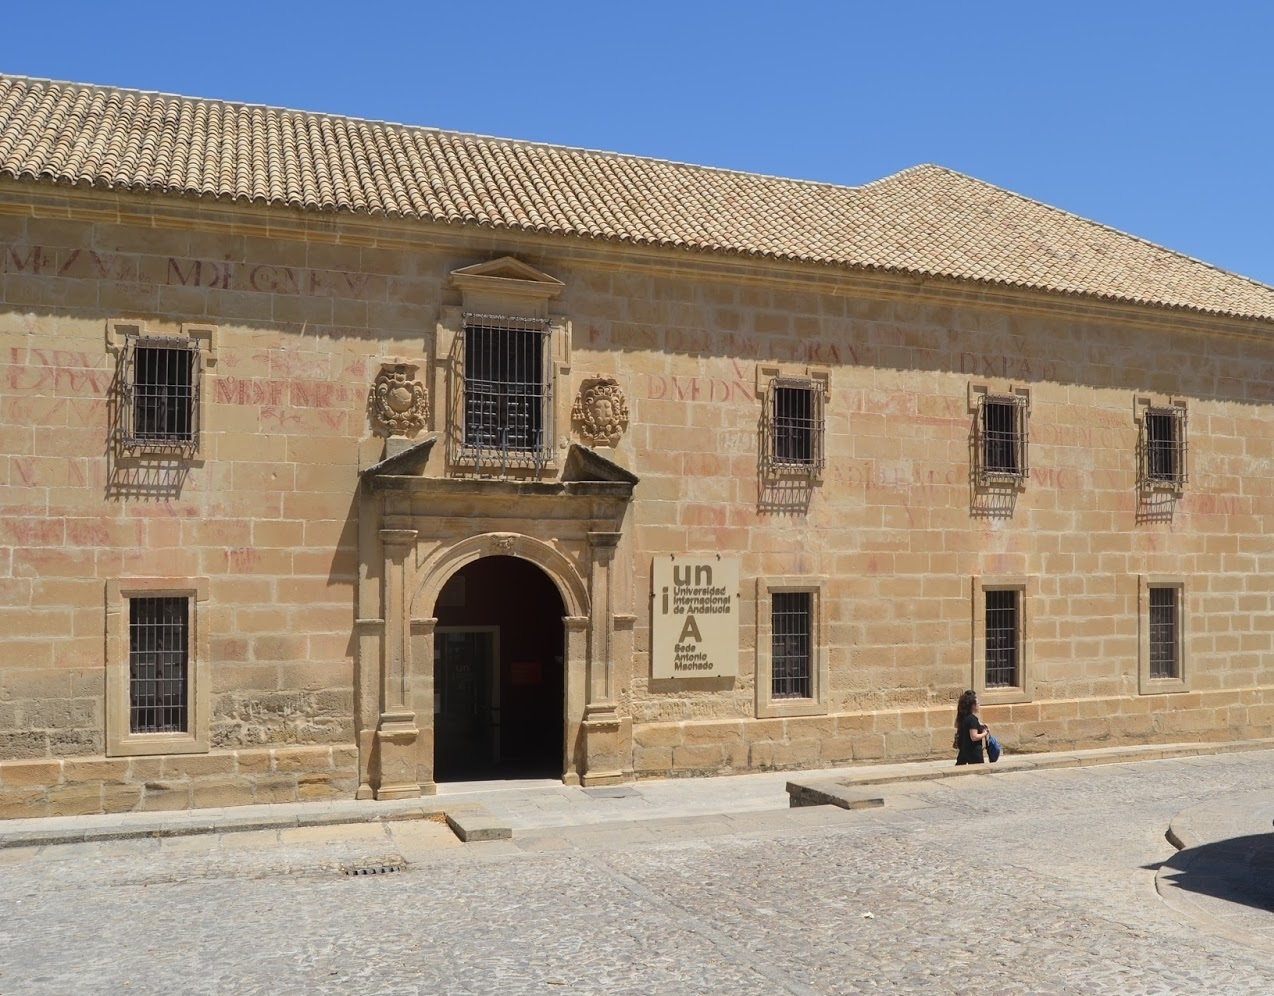arco-medio-punto: (405, 527, 593, 636)
fronton: (447, 252, 571, 295)
fronton-partido: (358, 436, 645, 504)
vano-adintelado: (434, 298, 576, 481), (99, 576, 216, 744), (99, 313, 221, 462), (750, 359, 838, 487), (755, 575, 835, 707), (968, 570, 1036, 692), (967, 378, 1037, 491), (1134, 569, 1195, 688), (1132, 394, 1192, 499)
